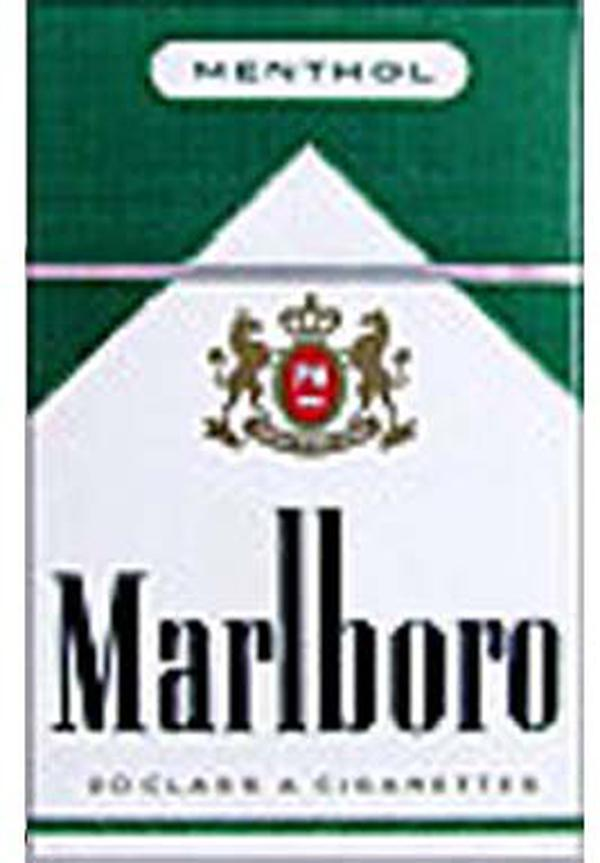marlboro_mentol: (29, 7, 581, 862)
